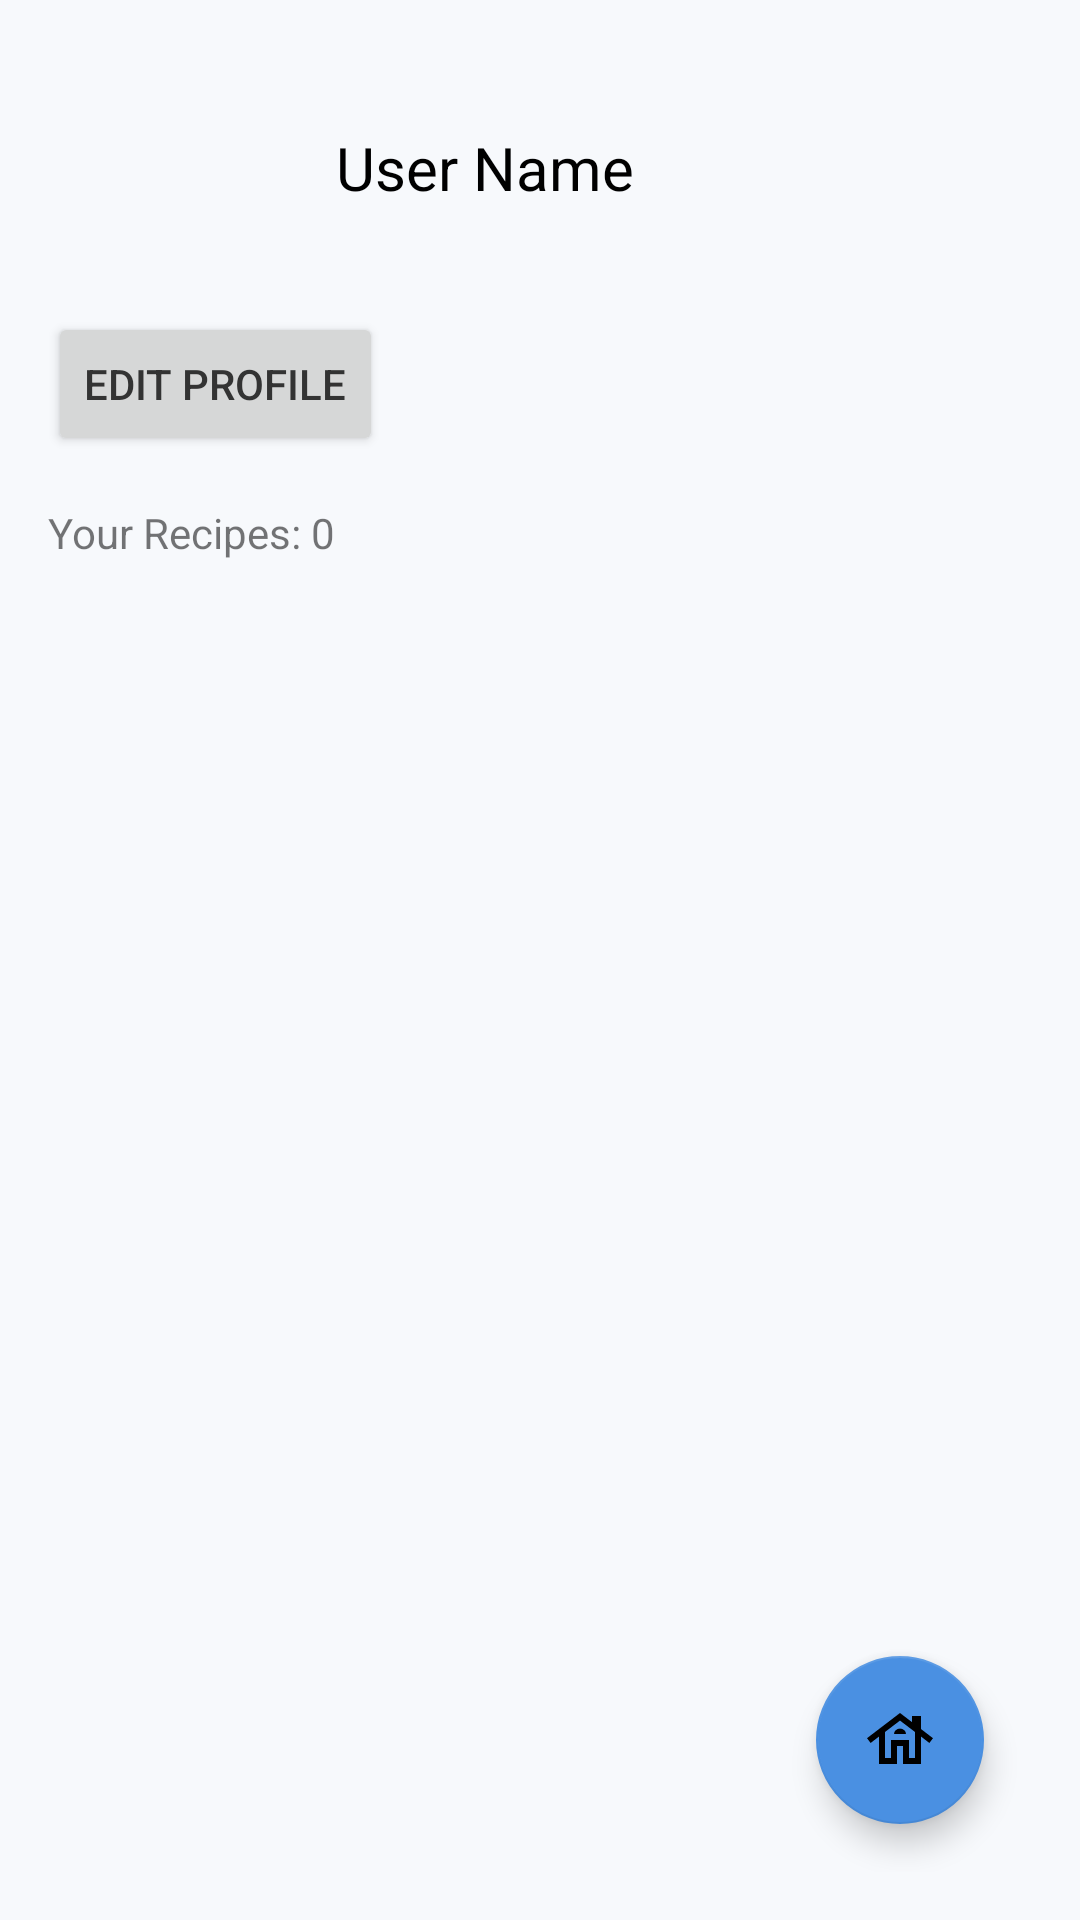

Point at icon controls on the screen. Image size 1080 × 1920, points as [x,y].
Go to Home: [900,1740]
